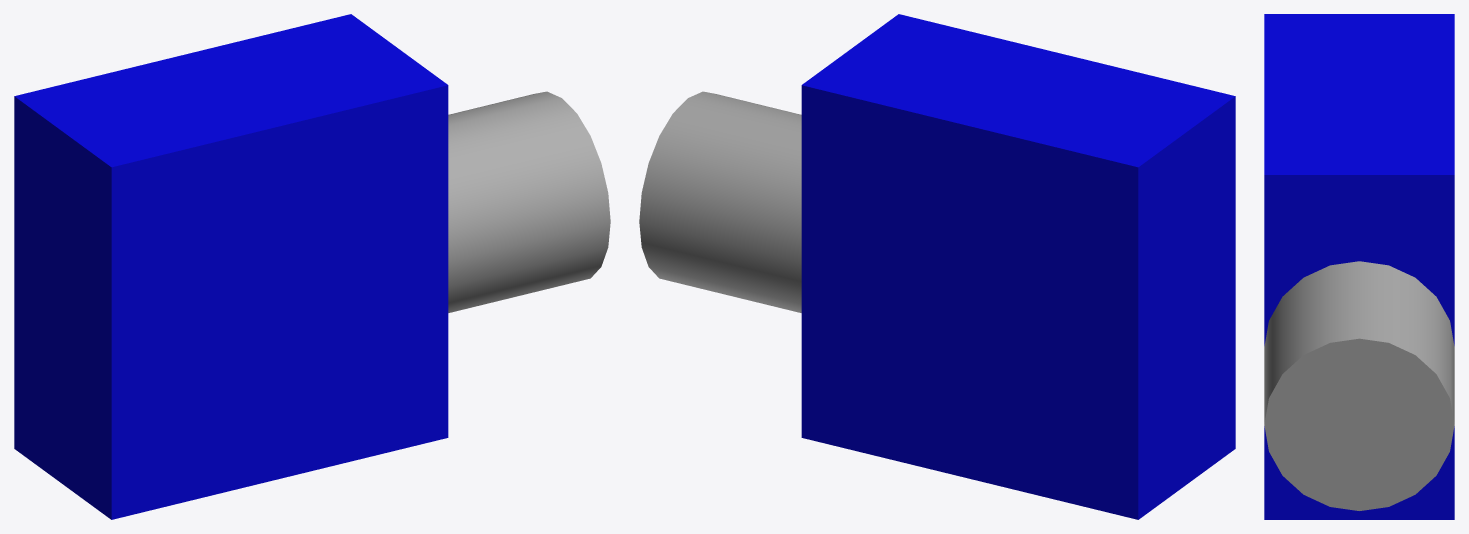
Rendered from Player.fbx.
3 renders of one model, left to right at view 1: azimuth 30°, elevation 25°; view 2: azimuth 150°, elevation 25°; view 3: azimuth 270°, elevation 25°, orthographic. The views are drawn at different scales.
Parts seen in each view (by area): view 1: polySurface2; view 2: polySurface2; view 3: polySurface2.
Part boxes in pixels (box(x1,y1,x2,y2)): polySurface2: box(14, 14, 610, 519); polySurface2: box(639, 14, 1235, 519); polySurface2: box(1264, 14, 1454, 519).
Size of the model in its own units: 2.96 by 2 by 1.
